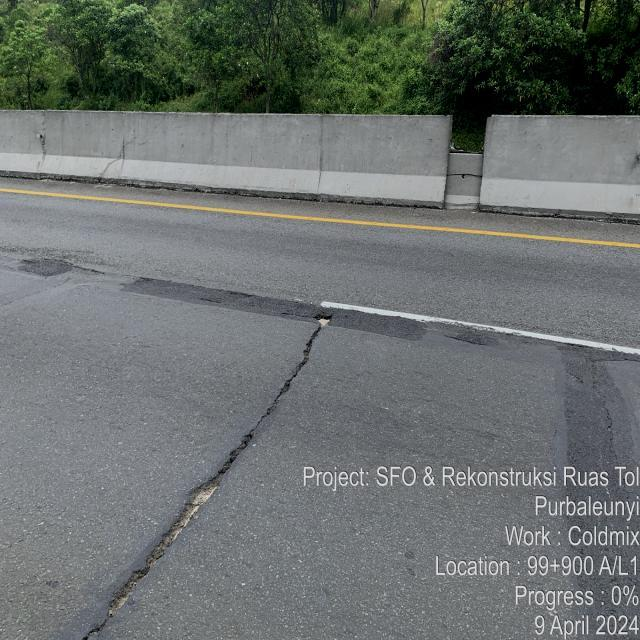Buraco: (103, 428, 258, 621), (275, 310, 339, 401)
